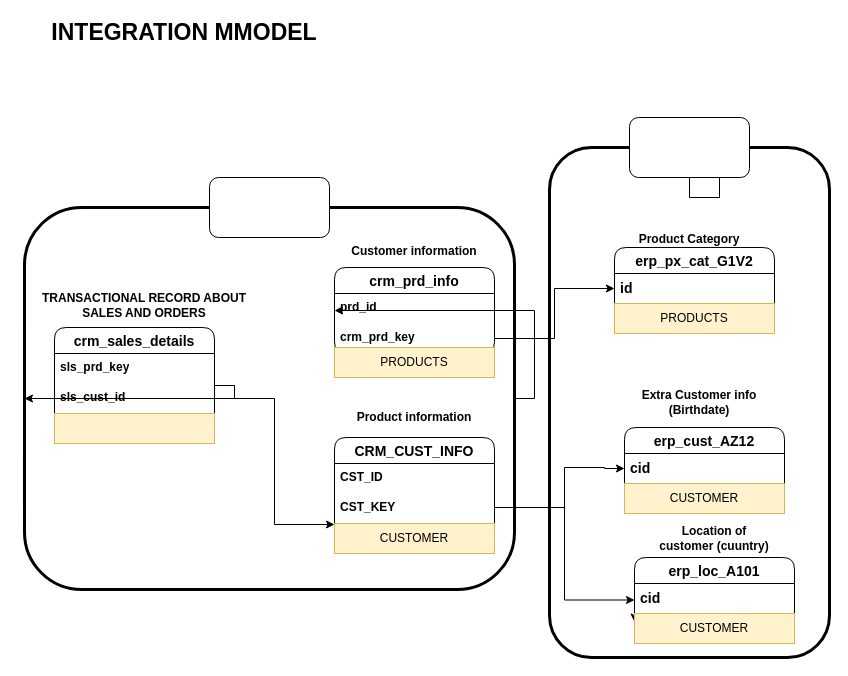
This 848x676 diagram has some shape labels left out. The centre of each missing label's shape, as x and y in pixels:
"CRM" belongs at (269,207).
"ERP" belongs at (689,147).
"SALES" belongs at (134,428).
